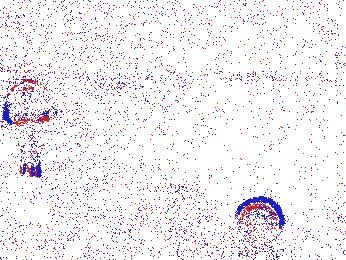flame jellyfish: (3, 81, 55, 178), (35, 200, 88, 257), (234, 197, 284, 246)
